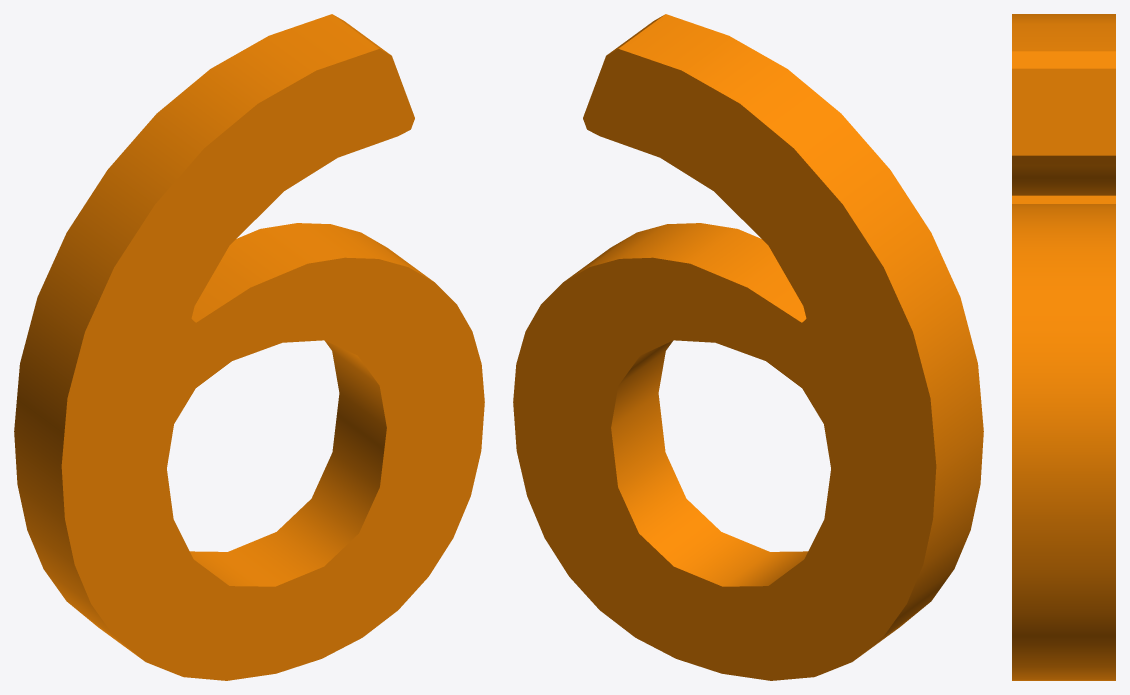
The model's file is original-24.obj.
3 views of the same model, side by side, from view 1: azimuth 30°, elevation 25°; view 2: azimuth 150°, elevation 25°; view 3: azimuth 270°, elevation 25° (orthographic). The views are drawn at different scales.
Parts seen in each view (by area): view 1: Componente_14_1/Componente_14/mesh86/mesh86-geometry#mesh86-geom; view 2: Componente_14_1/Componente_14/mesh86/mesh86-geometry#mesh86-geom; view 3: Componente_14_1/Componente_14/mesh86/mesh86-geometry#mesh86-geom.
Part boxes in pixels (left/top/right/bottom): Componente_14_1/Componente_14/mesh86/mesh86-geometry#mesh86-geom: left=14, top=14, right=484, bottom=680; Componente_14_1/Componente_14/mesh86/mesh86-geometry#mesh86-geom: left=513, top=14, right=983, bottom=680; Componente_14_1/Componente_14/mesh86/mesh86-geometry#mesh86-geom: left=1012, top=14, right=1115, bottom=680.
Size of the model in its own units: 0.0624 by 0.0845 by 0.0121.
